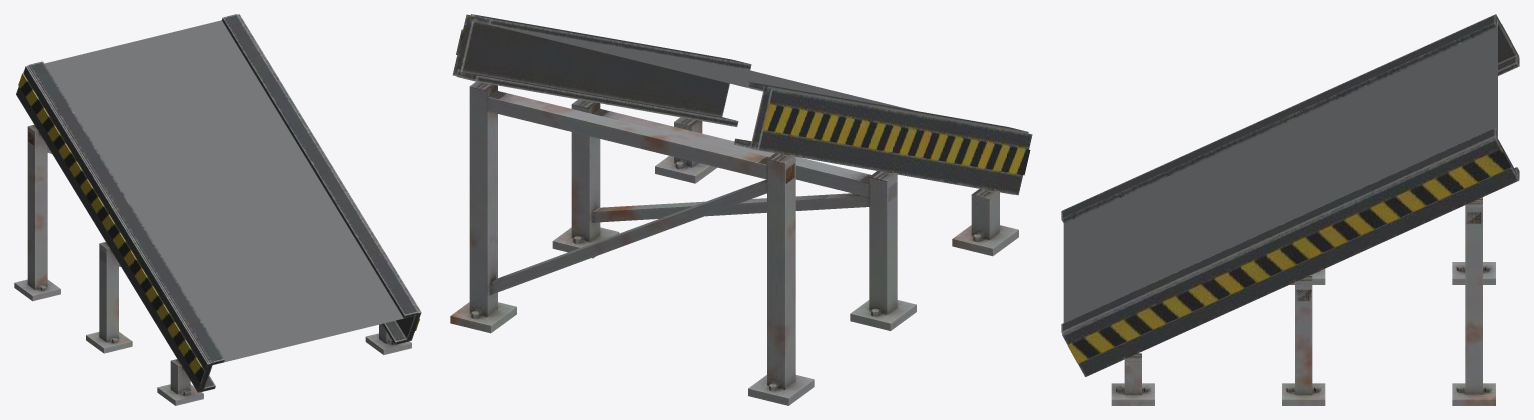
Rendered from esteira_rampa.glb.
3 views of the same model, side by side, from view 1: azimuth 30°, elevation 25°; view 2: azimuth 150°, elevation 25°; view 3: azimuth 270°, elevation 25° (orthographic). The views are drawn at different scales.
Visible parts, largest first — view 1: esteira_rampa_corpo; view 2: esteira_rampa_corpo; view 3: esteira_rampa_corpo.
Part boxes in pixels (bbox=[...]): esteira_rampa_corpo: bbox=[14, 14, 421, 405]; esteira_rampa_corpo: bbox=[450, 14, 1032, 405]; esteira_rampa_corpo: bbox=[1061, 14, 1519, 405].
Size of the model in its own units: 0.75 by 0.6661 by 1.06.
2 materials, 1 textured.
